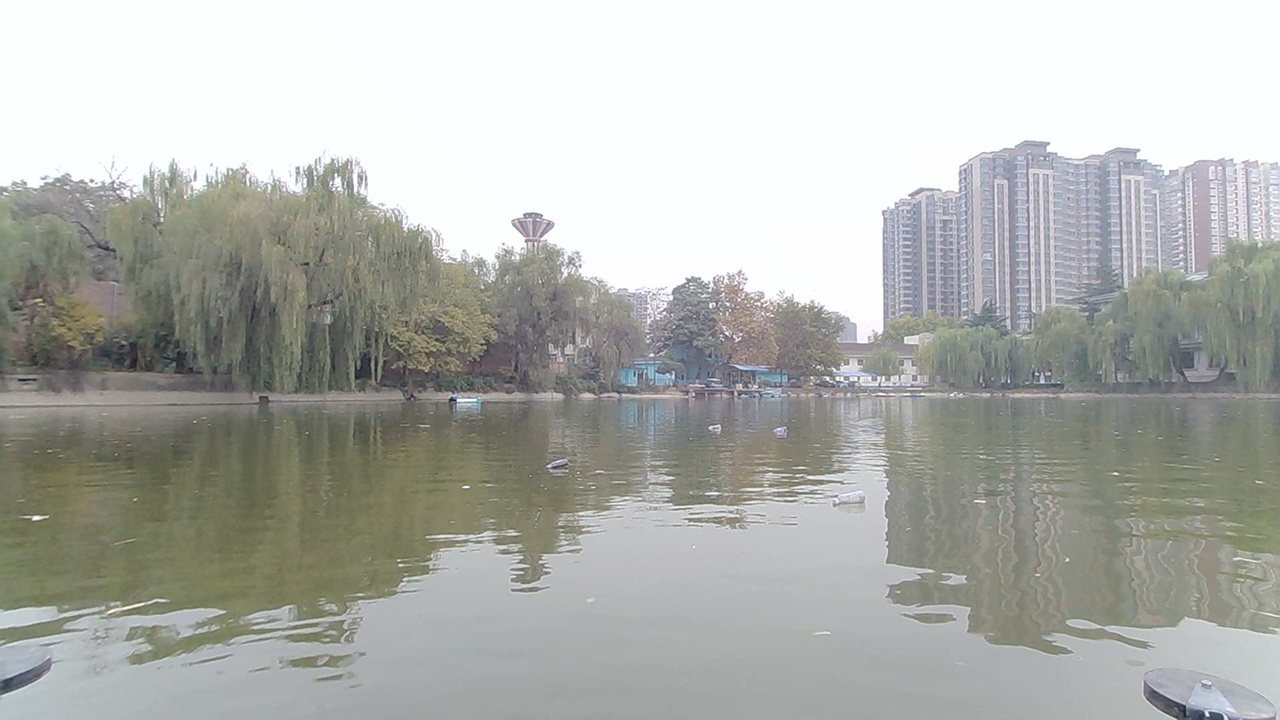bottle: (546, 455, 576, 477), (835, 490, 865, 511), (767, 422, 800, 439), (705, 414, 727, 433)
